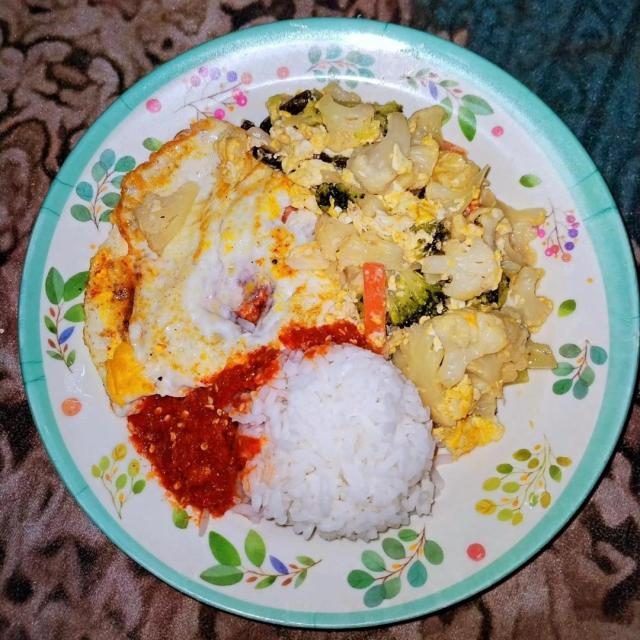Egg: (74, 111, 360, 410)
Plate: (20, 21, 634, 622)
Rice: (224, 341, 437, 540)
Vegetables: (252, 79, 564, 461)
